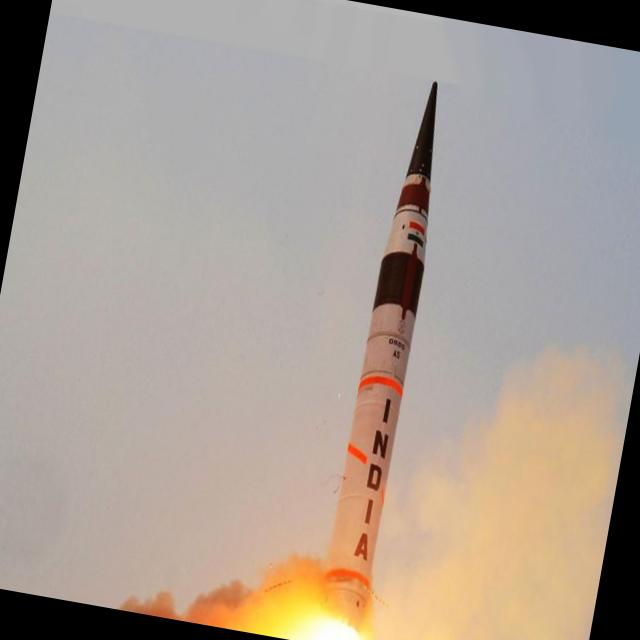rocket: (308, 75, 472, 639)
